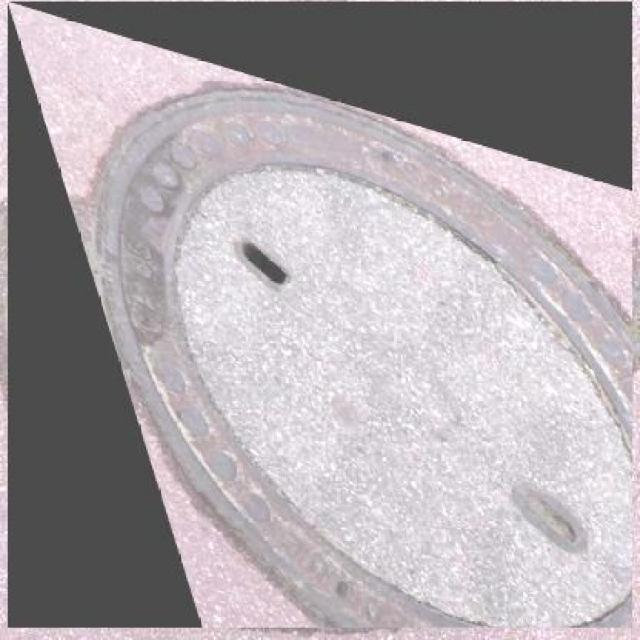Manhole: (8, 1, 632, 628)
